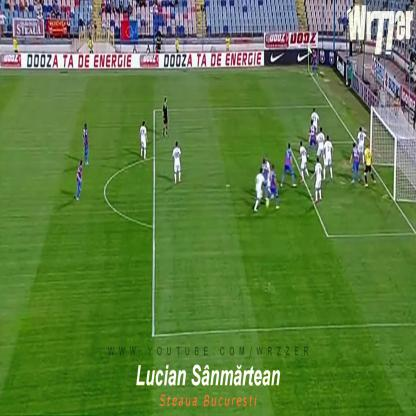corner kick: (290, 26, 341, 101)
